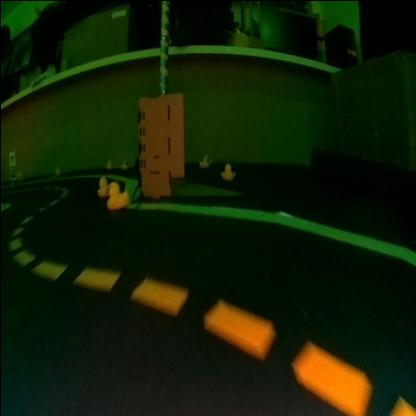Duckie: (106, 181, 127, 208), (97, 174, 107, 193), (219, 162, 232, 176), (198, 154, 208, 165), (121, 158, 127, 166), (104, 158, 110, 166), (53, 164, 58, 172)
Intersection sign: (8, 153, 13, 161)
QR code: (7, 166, 14, 178)
